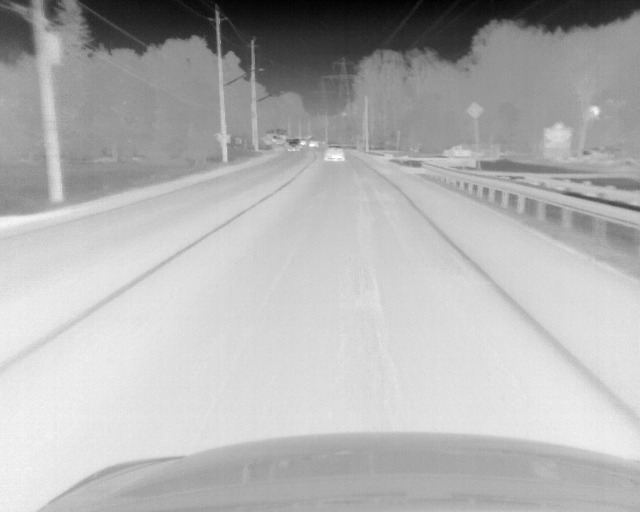car: (441, 145, 475, 159), (323, 144, 344, 162), (287, 139, 298, 152), (271, 134, 281, 144), (308, 140, 318, 148), (299, 139, 306, 146)
